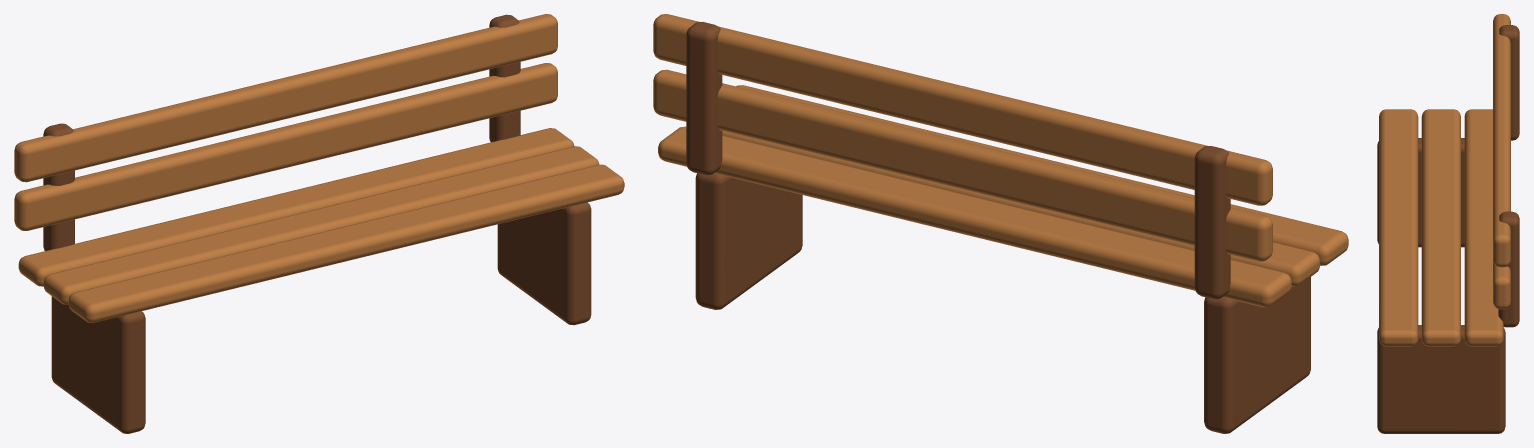
Rendered from bench.glb.
3 views of the same model, side by side, from view 1: azimuth 30°, elevation 25°; view 2: azimuth 150°, elevation 25°; view 3: azimuth 270°, elevation 25° (orthographic). The views are drawn at different scales.
Visible parts, largest first — view 1: bench; view 2: bench; view 3: bench.
Boxes of the visible parts, x1=… form: bench: x1=14, y1=14, x2=624, y2=433; bench: x1=653, y1=14, x2=1348, y2=433; bench: x1=1377, y1=14, x2=1519, y2=433.
Size of the model in its own units: 1.5 by 0.67 by 0.4.
